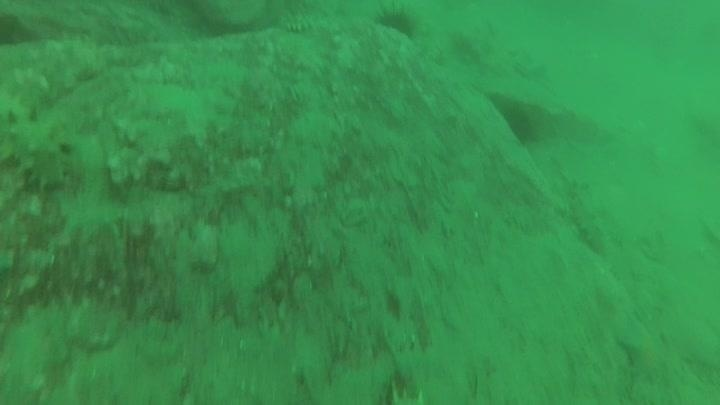echinus: (485, 93, 541, 147), (372, 3, 423, 42)
holothurian: (1, 100, 76, 193), (564, 179, 611, 257), (276, 9, 324, 36)
starfish: (614, 318, 672, 384)
